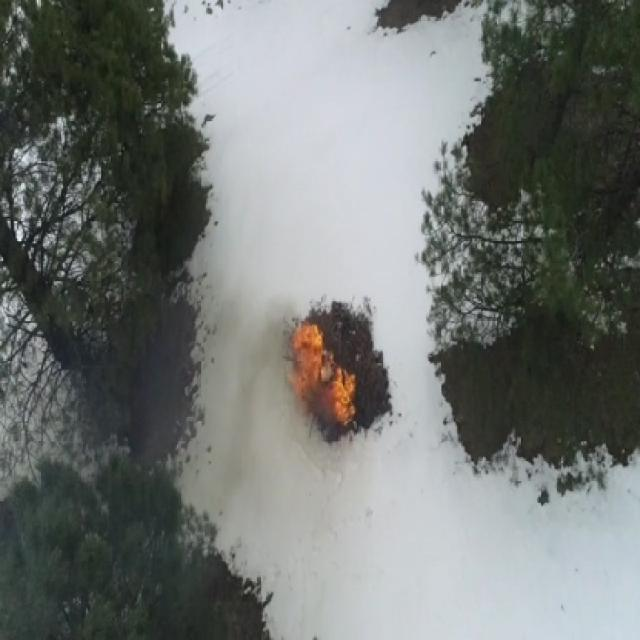Fire: (293, 323, 324, 402), (328, 364, 357, 428)
